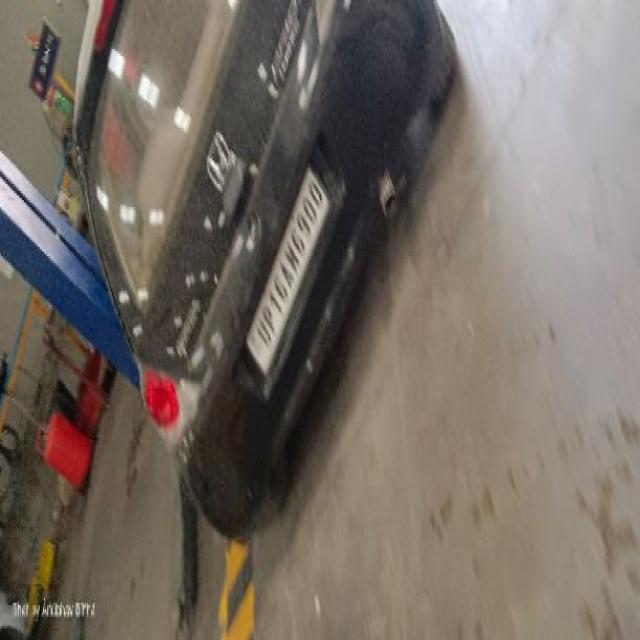license_plate: (72, 0, 458, 540)
